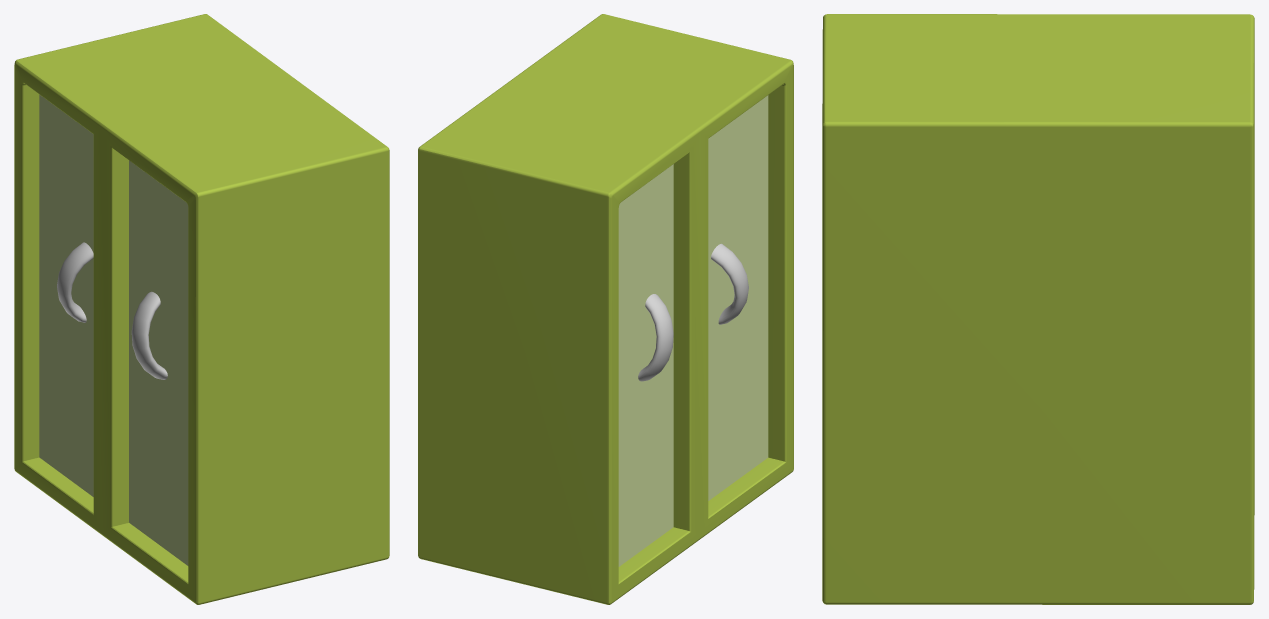
File: Small_Cabinet.fbx
The picture shows the model from 3 angles, left to right: view 1: azimuth 30°, elevation 25°; view 2: azimuth 150°, elevation 25°; view 3: azimuth 270°, elevation 25°; orthographic projection. The views are drawn at different scales.
Visible parts, largest first — view 1: pCube8; view 2: pCube8; view 3: pCube8.
Boxes of the visible parts, bbox=[...] form: pCube8: bbox=[14, 14, 389, 604]; pCube8: bbox=[418, 14, 793, 604]; pCube8: bbox=[822, 14, 1254, 604].
Bounding box in the file's own units: 0.4511 × 0.8864 × 0.7193.
